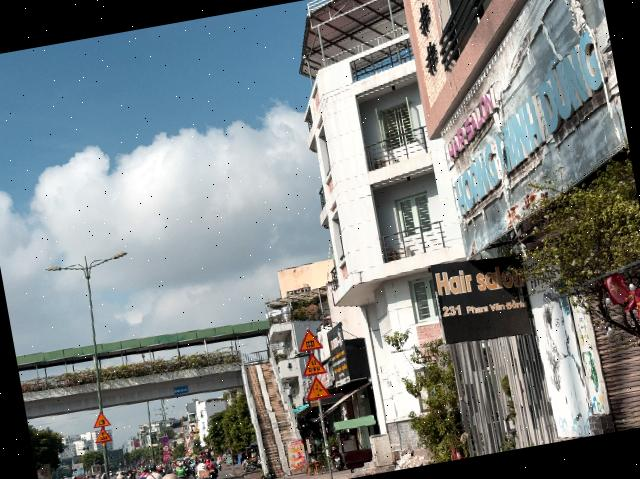chieu-cao-tinh-khong-thuc-te: (302, 374, 332, 402)
di-cham: (300, 350, 328, 376), (92, 426, 112, 443)
noi-giao-nhau-voi-duong-sat-co-rao-chan: (294, 326, 324, 352), (90, 410, 111, 428)
